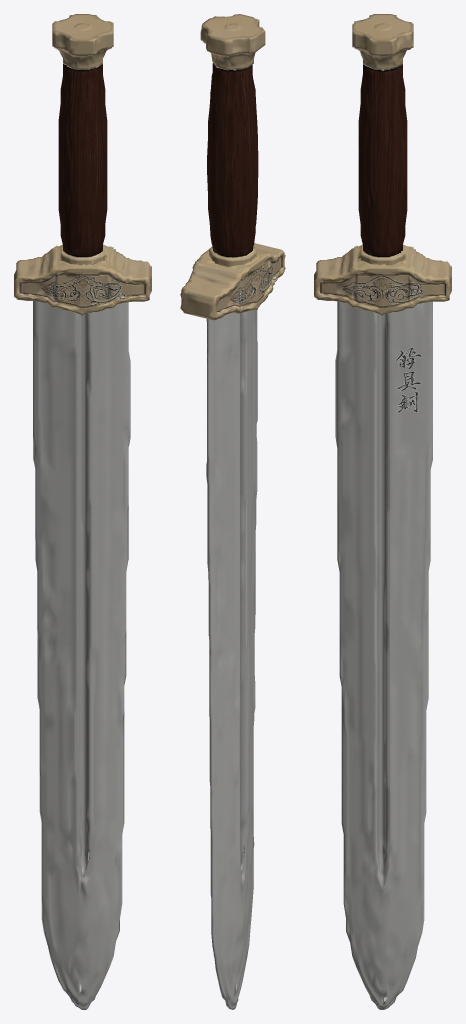
The model's file is tripo_convert_fe9e0521-b117-4c94-9628-9e7acbde6e59.fbx.
3 renders of one model, left to right at view 1: azimuth 90°, elevation 25°; view 2: azimuth 150°, elevation 25°; view 3: azimuth 270°, elevation 25°, orthographic.
Visible parts, largest first — view 1: tripo_node_fe9e0521; view 2: tripo_node_fe9e0521; view 3: tripo_node_fe9e0521.
Boxes of the visible parts, box(x1,y1,x2,y2) form: tripo_node_fe9e0521: box(14, 14, 151, 1009); tripo_node_fe9e0521: box(180, 14, 285, 1009); tripo_node_fe9e0521: box(314, 14, 451, 1009).
Bounding box in the file's own units: 0.0566 × 0.998 × 0.127.
Materials: 1 (1 with a texture image).
